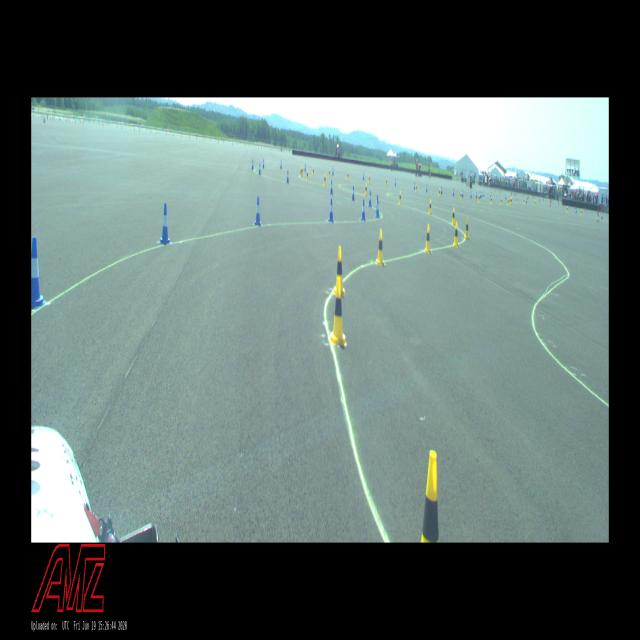blue_cone: (32, 237, 46, 310), (160, 203, 170, 244), (254, 197, 262, 226), (328, 198, 334, 222), (361, 199, 366, 220), (376, 198, 380, 217), (375, 194, 379, 212), (368, 190, 372, 207), (352, 185, 355, 200), (330, 180, 333, 194), (287, 170, 289, 183), (259, 163, 261, 174), (262, 158, 264, 168), (252, 159, 254, 169), (304, 163, 306, 172), (280, 161, 282, 169), (481, 190, 483, 198), (470, 191, 472, 198), (440, 187, 442, 194), (332, 168, 334, 175), (575, 206, 577, 213), (601, 212, 603, 219), (475, 192, 477, 198), (478, 192, 480, 198), (426, 184, 427, 192), (363, 172, 364, 180), (462, 189, 463, 197), (453, 188, 454, 195), (395, 179, 396, 186), (414, 182, 415, 189), (505, 193, 506, 200), (491, 191, 492, 198), (480, 192, 481, 198), (526, 198, 527, 203), (484, 190, 484, 197)
yellow_cone: (421, 451, 438, 542), (330, 278, 347, 346), (334, 246, 345, 296), (376, 229, 384, 266), (425, 224, 431, 254), (453, 222, 459, 247), (464, 218, 469, 240), (451, 207, 455, 225), (428, 199, 432, 214), (364, 183, 368, 196), (306, 169, 309, 181), (328, 168, 331, 178), (324, 174, 326, 186), (399, 192, 401, 204), (300, 168, 302, 177), (312, 167, 314, 176), (478, 194, 480, 203), (460, 192, 462, 200), (347, 172, 349, 180), (386, 179, 388, 186), (490, 197, 492, 204), (509, 198, 511, 205), (580, 209, 582, 216), (516, 197, 518, 203), (534, 200, 536, 206), (302, 166, 303, 176), (439, 188, 440, 197), (369, 175, 370, 183), (501, 197, 502, 205), (416, 184, 417, 192), (511, 196, 512, 204), (508, 198, 509, 205), (567, 206, 568, 212), (524, 198, 524, 204), (550, 202, 550, 209)
